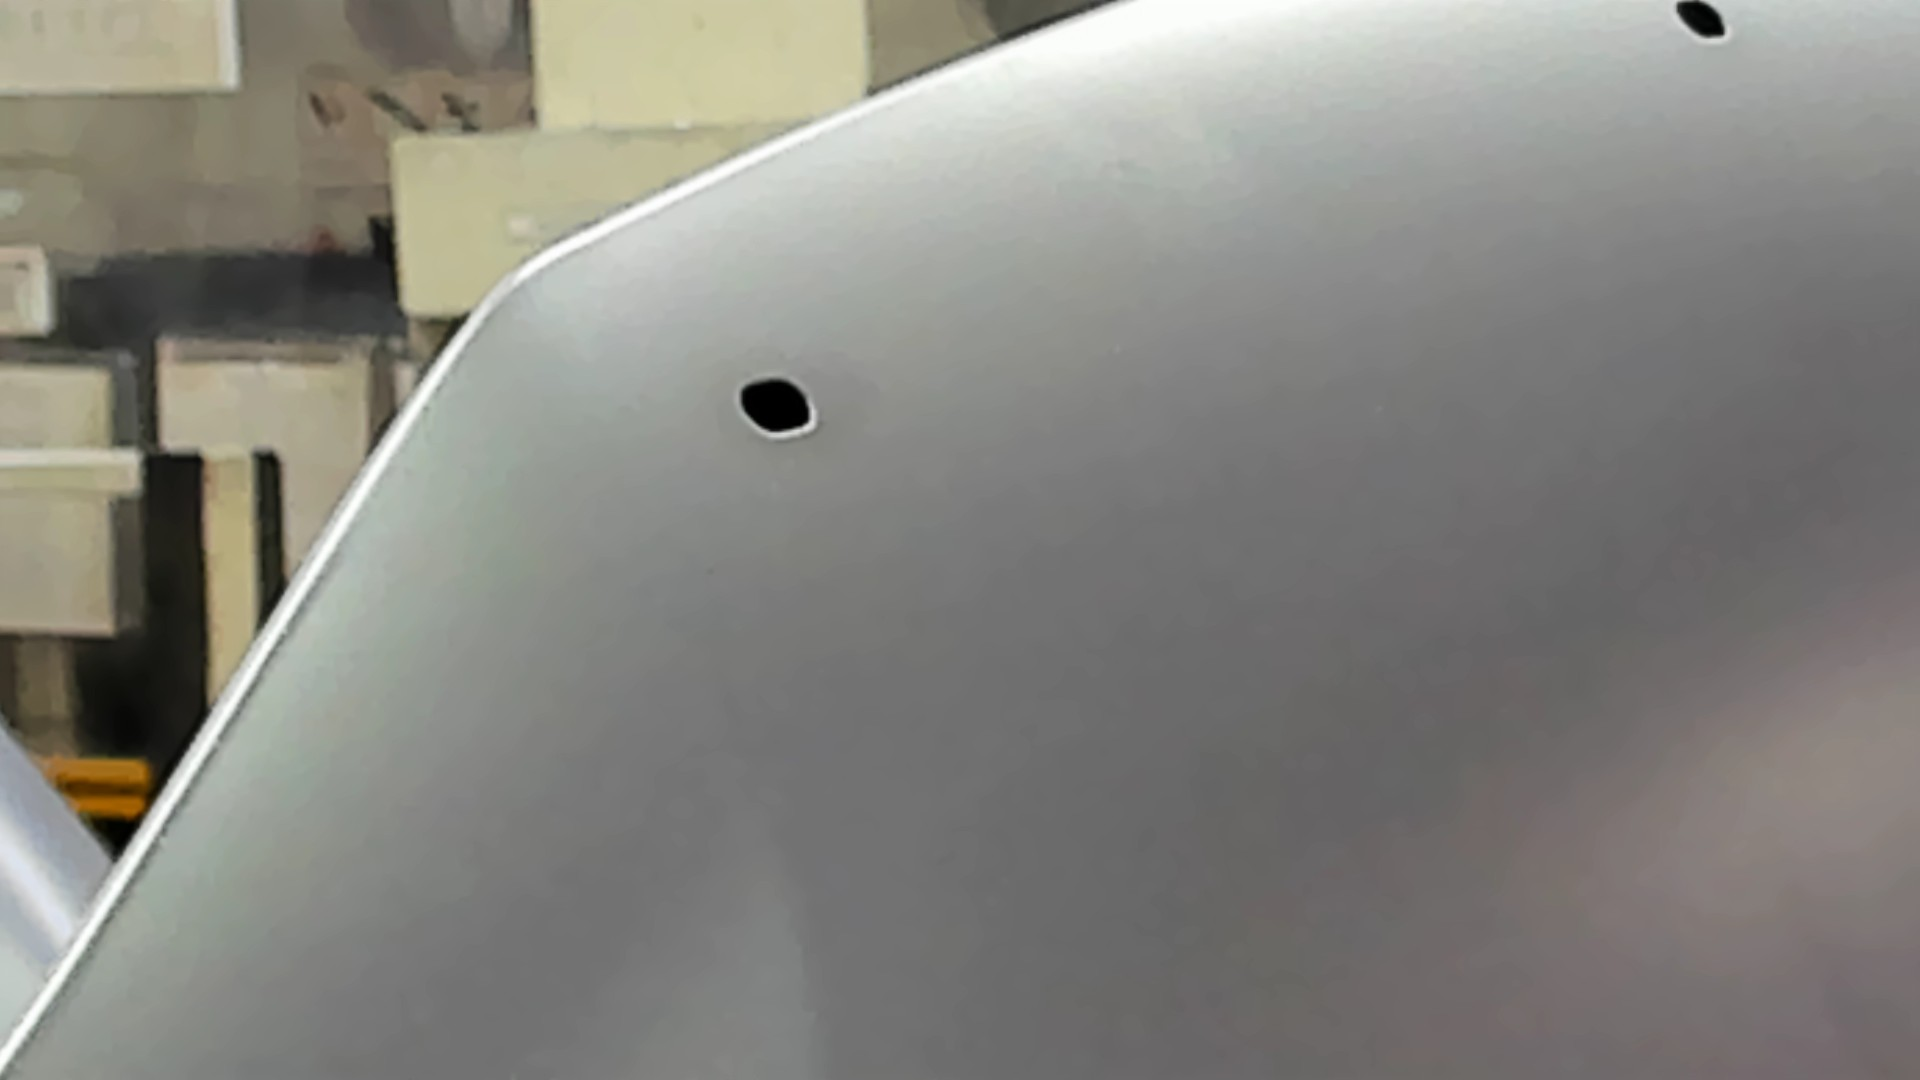amorfo: (733, 375, 818, 444), (1673, 1, 1729, 47)
